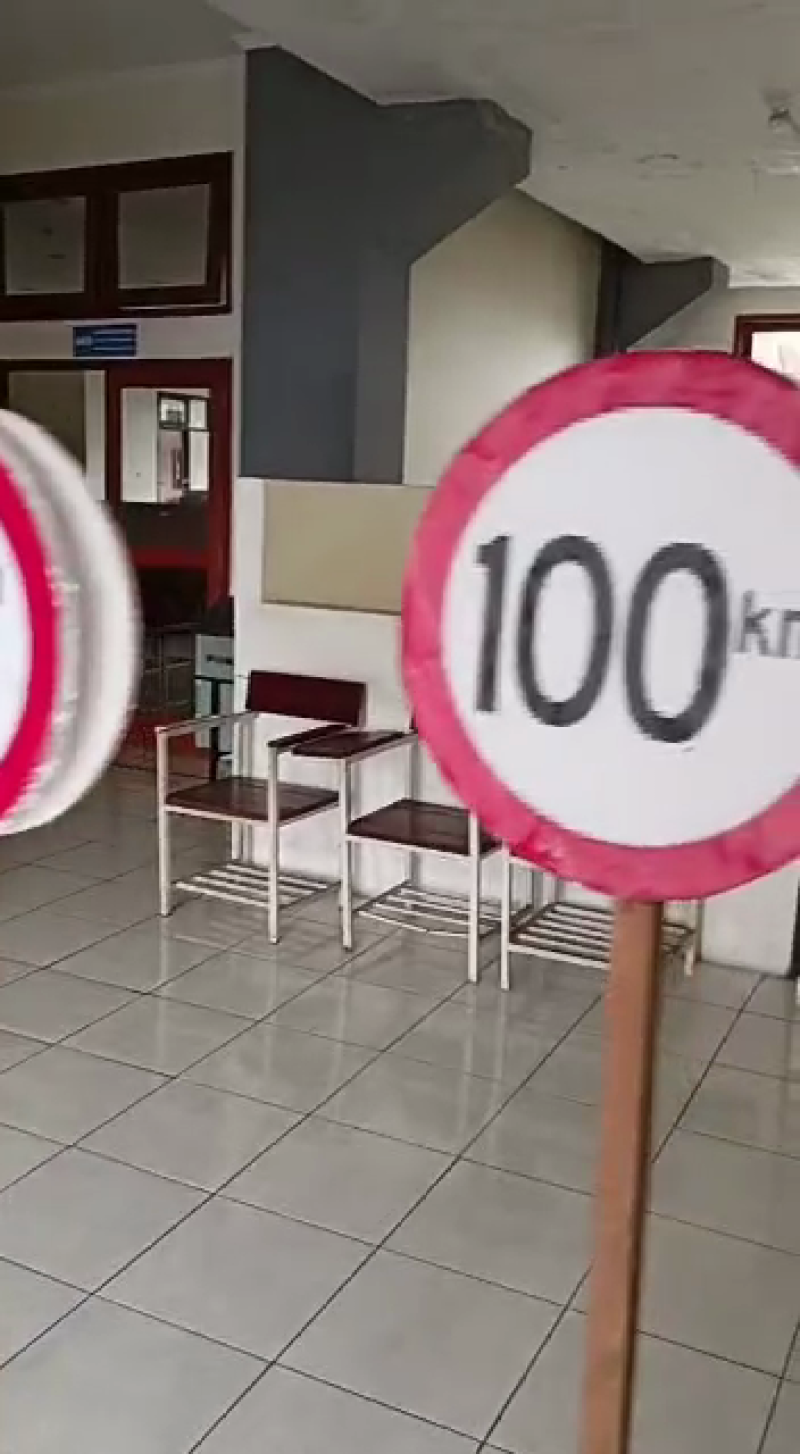batas maksimal 100kmperjam: (395, 341, 800, 909)
